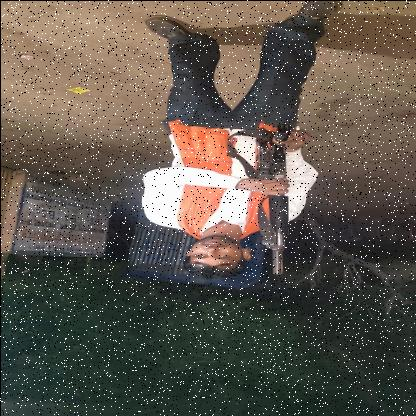rifle: (252, 122, 292, 276)
